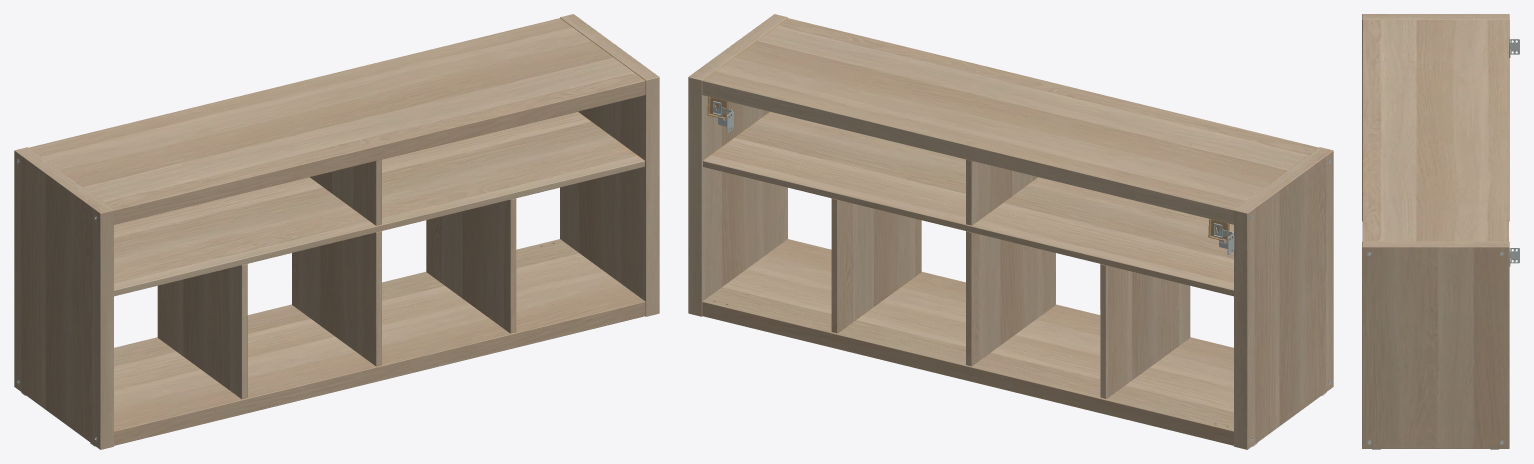
The picture shows the model from 3 angles, left to right: view 1: azimuth 30°, elevation 25°; view 2: azimuth 150°, elevation 25°; view 3: azimuth 270°, elevation 25°; orthographic projection. The views are drawn at different scales.
Visible parts, largest first — view 1: ASY_ART_80562096_S01_NV01; view 2: ASY_ART_80562096_S01_NV01; view 3: ASY_ART_80562096_S01_NV01.
Boxes of the visible parts, x1,y1,x2,y2 form: ASY_ART_80562096_S01_NV01: (14, 14, 659, 449); ASY_ART_80562096_S01_NV01: (688, 14, 1333, 449); ASY_ART_80562096_S01_NV01: (1362, 14, 1519, 449).
Size of the model in its own units: 1.47 by 0.596 by 0.4195.
1 material, 1 textured.
